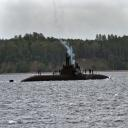submarine: (21, 56, 111, 83)
